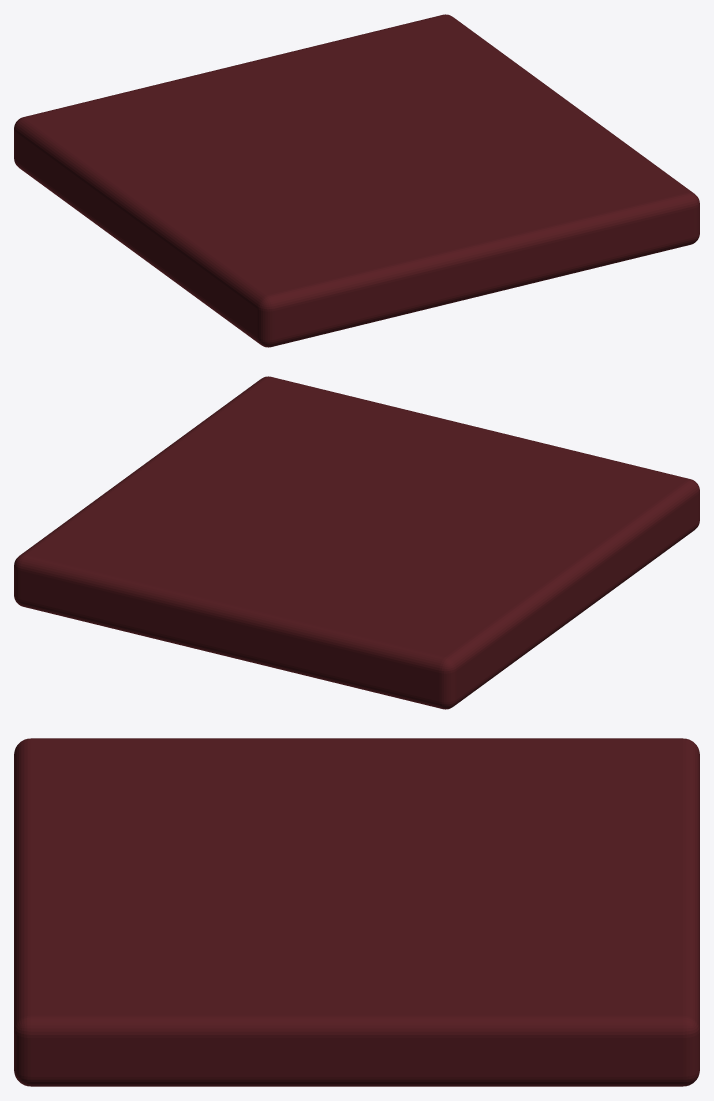
File: BoardFloorModel.fbx
The picture shows the model from 3 angles, top to bottom: view 1: azimuth 30°, elevation 25°; view 2: azimuth 150°, elevation 25°; view 3: azimuth 270°, elevation 25°; orthographic projection. The views are drawn at different scales.
Visible parts, largest first — view 1: BoardFloor; view 2: BoardFloor; view 3: BoardFloor.
Boxes of the visible parts, x1,y1,x2,y2 form: BoardFloor: [14, 14, 699, 347]; BoardFloor: [14, 376, 699, 709]; BoardFloor: [14, 738, 699, 1086].
Bounding box in the file's own units: 225 × 25 × 225.
Materials: 1 (1 with a texture image).
